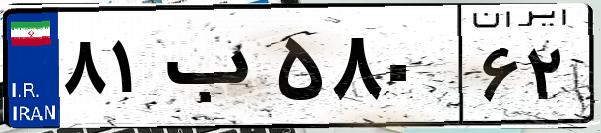0: (385, 28, 445, 110)
1: (110, 28, 158, 98)
2: (525, 38, 570, 115)
5: (270, 28, 330, 110)
6: (475, 38, 525, 113)
8: (330, 28, 385, 110), (57, 26, 110, 100)
ب: (158, 20, 270, 120)
